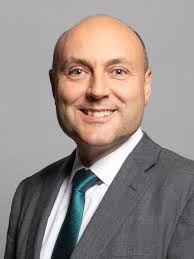no-mask: (41, 9, 156, 159)
